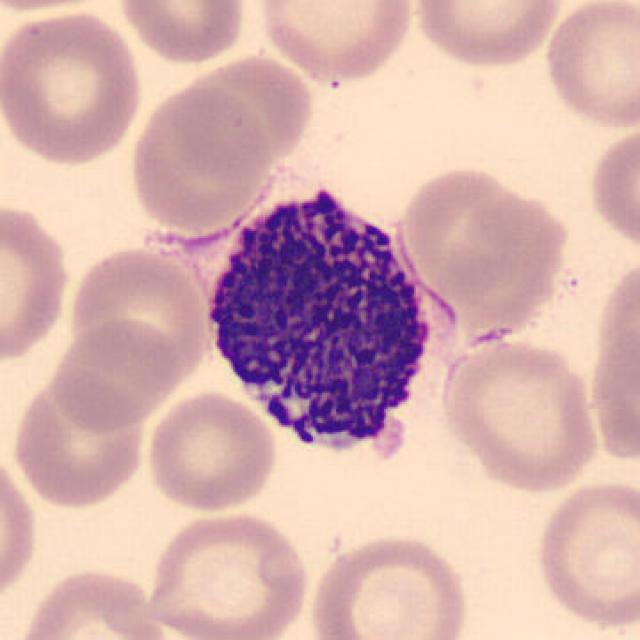Basophil: (190, 172, 468, 480)
RBC: (436, 334, 604, 496), (0, 6, 148, 170), (395, 162, 558, 307), (124, 78, 274, 234), (142, 506, 315, 640), (64, 241, 213, 388), (7, 369, 149, 513), (304, 529, 473, 640), (178, 49, 318, 171), (142, 390, 279, 514), (530, 476, 638, 631), (46, 316, 182, 432), (254, 0, 420, 88), (540, 0, 638, 132), (0, 195, 73, 368), (583, 250, 640, 471), (11, 564, 172, 640), (409, 0, 567, 71), (114, 0, 249, 67), (585, 122, 638, 256), (0, 446, 41, 612), (0, 0, 126, 16)
